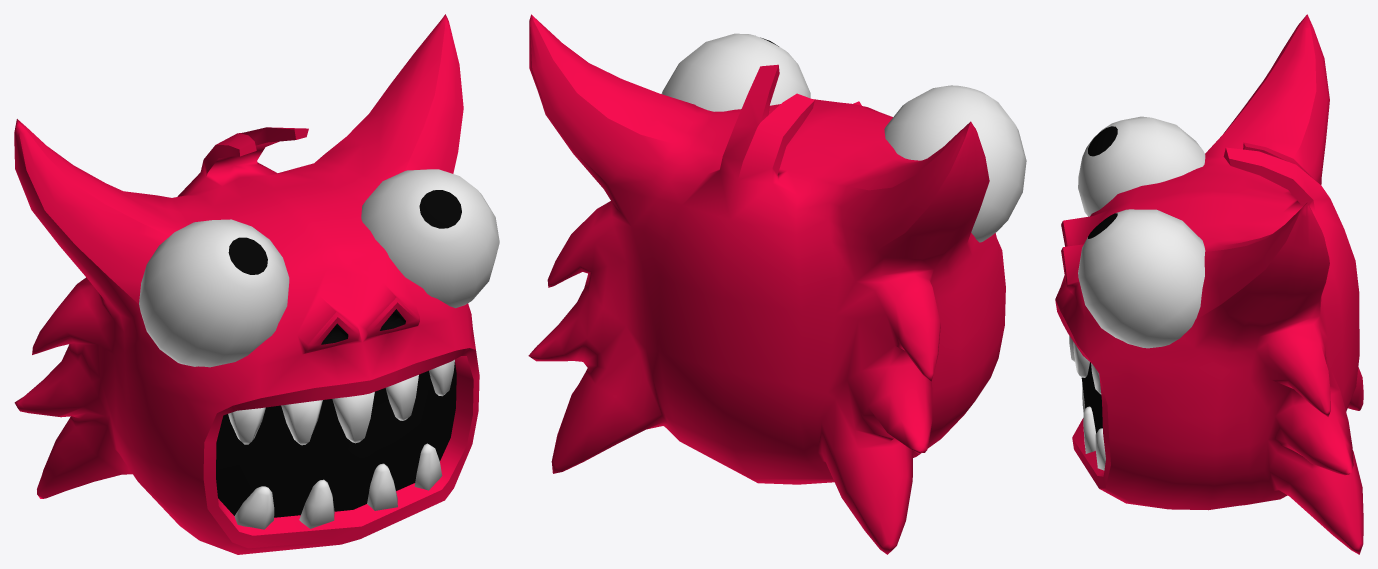
File: RedMonster.fbx
3 views of the same model, side by side, from view 1: azimuth 30°, elevation 25°; view 2: azimuth 150°, elevation 25°; view 3: azimuth 270°, elevation 25° (orthographic). The views are drawn at different scales.
Visible parts, largest first — view 1: head_monster; view 2: head_monster; view 3: head_monster.
Boxes of the visible parts, x1,y1,x2,y2 form: head_monster: [14, 14, 499, 554]; head_monster: [528, 14, 1026, 554]; head_monster: [1055, 14, 1363, 554].
Bounding box in the file's own units: 0.8008 × 0.7285 × 0.5439.
